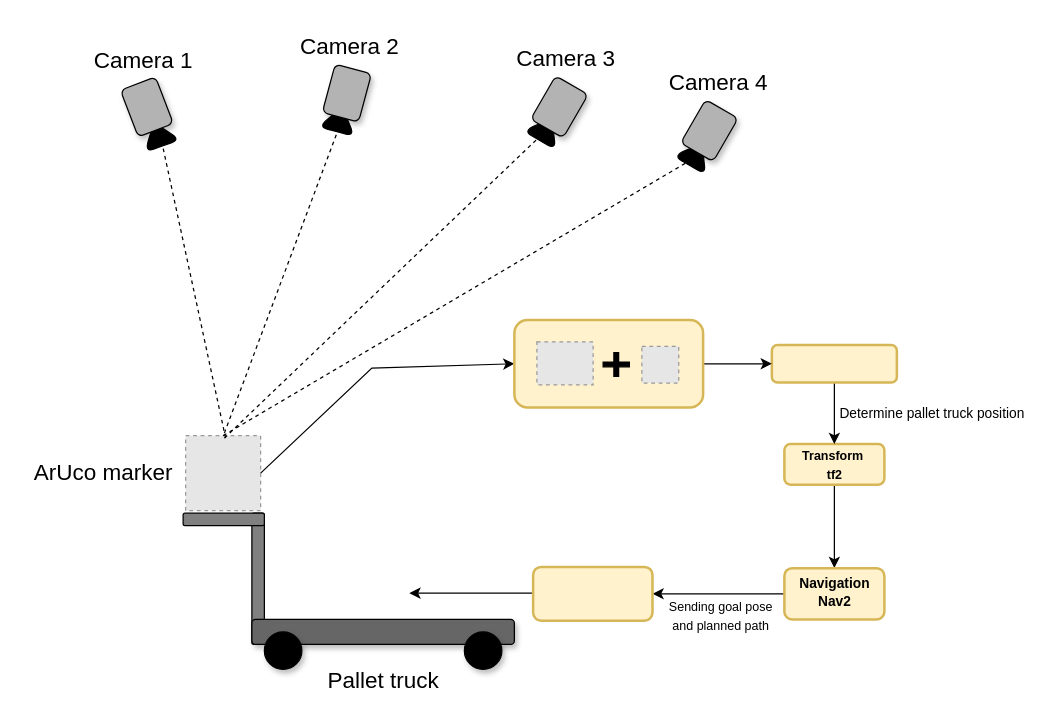
This 1059x726 diagram has some shape labels left out. Grey dashed boxes stand in for pictures. The centre of each missing label's shape, as x and y in pixels:
"Aruco localization pkg" belongs at [834,363].
"Control of the pallet truck" belongs at [592,593].
